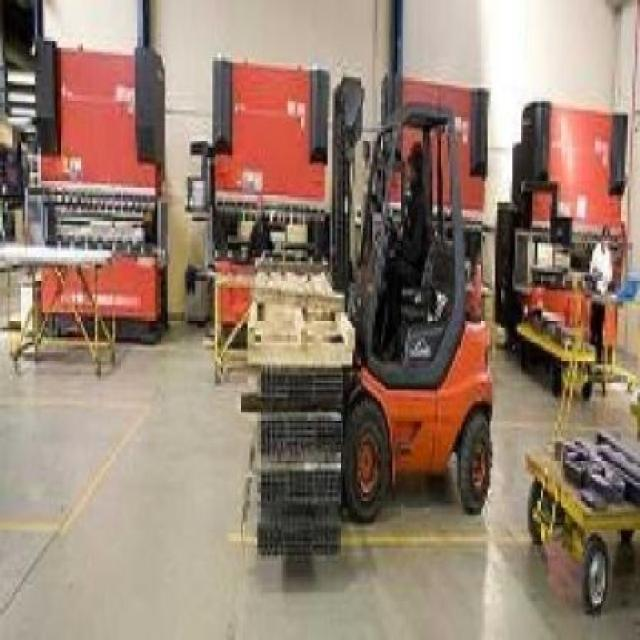forklift: (332, 70, 500, 523)
